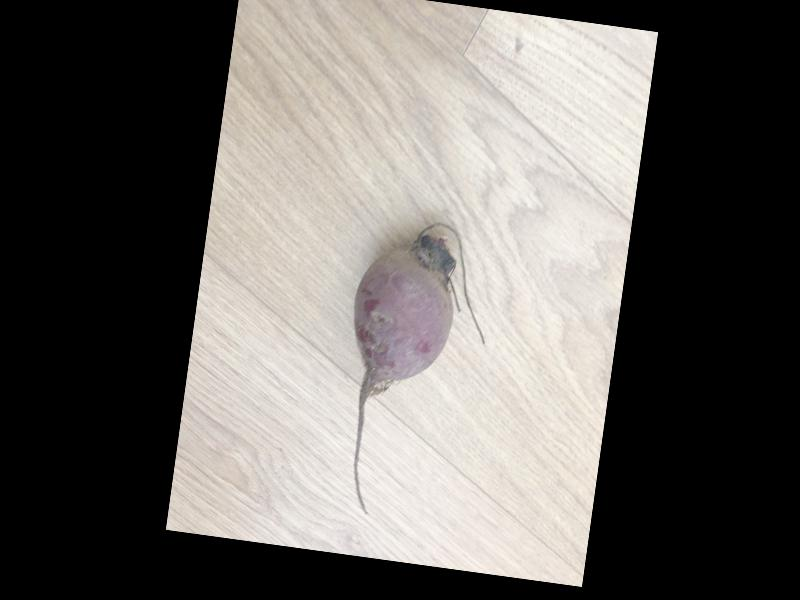Beet: (325, 213, 499, 528)
